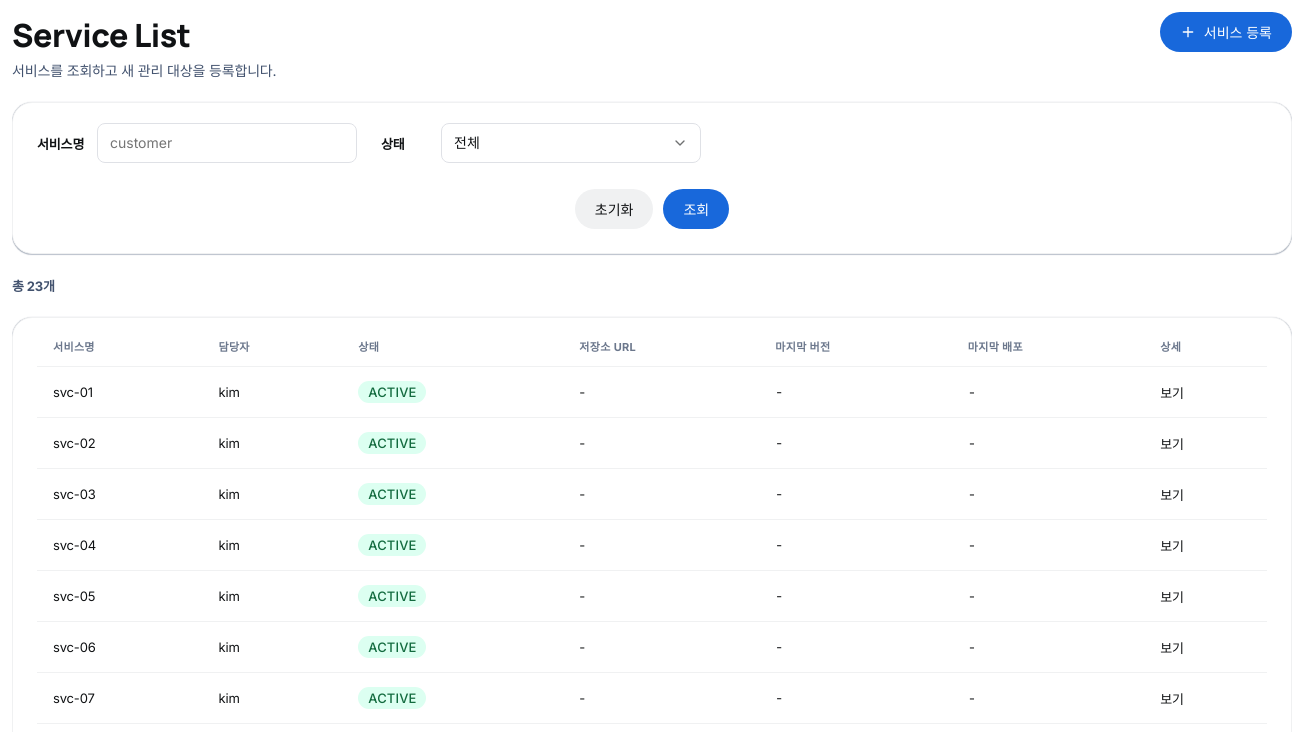
Scenario: ServiceList client pagination + reset › clears the keyword filter input when 초기화 is clicked
The image size is (1304, 732).
In the field with placeholder "customer": (227,143) left=97, top=123, right=357, bottom=163, type "payments"
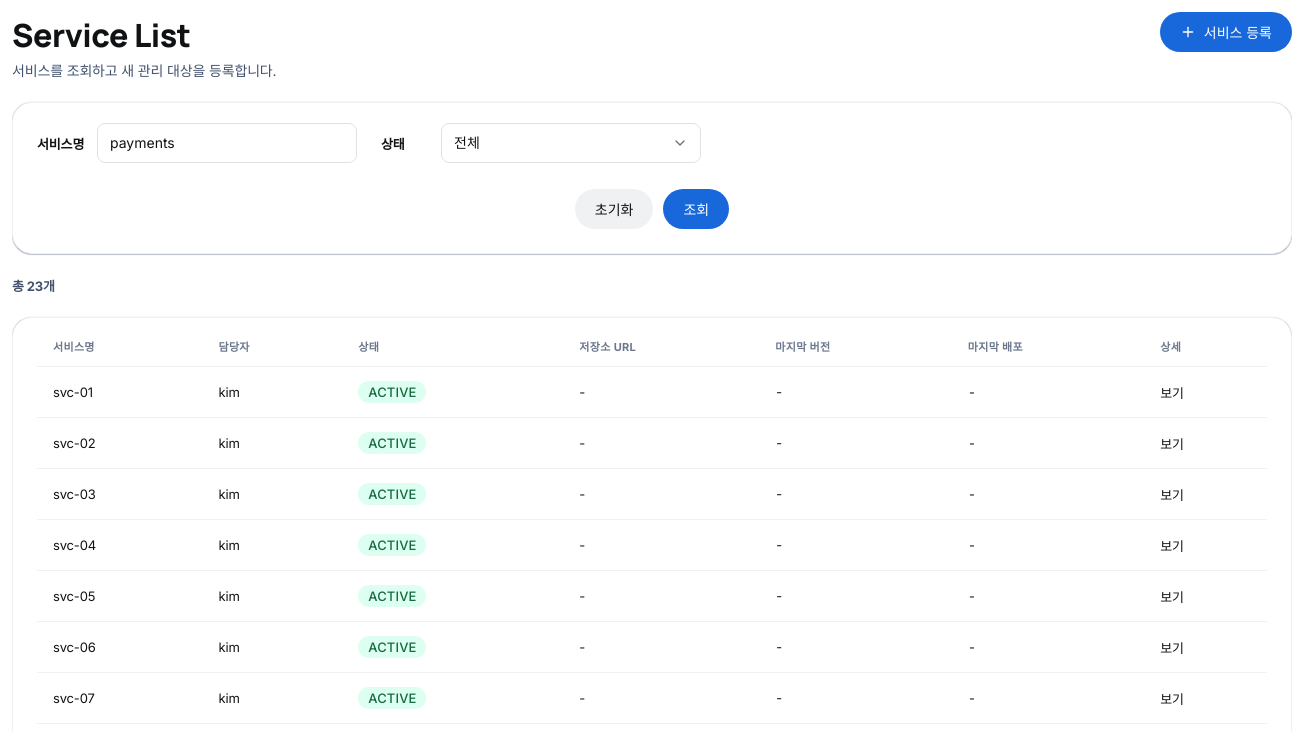
Click the button "초기화": (614,209) left=575, top=189, right=653, bottom=229
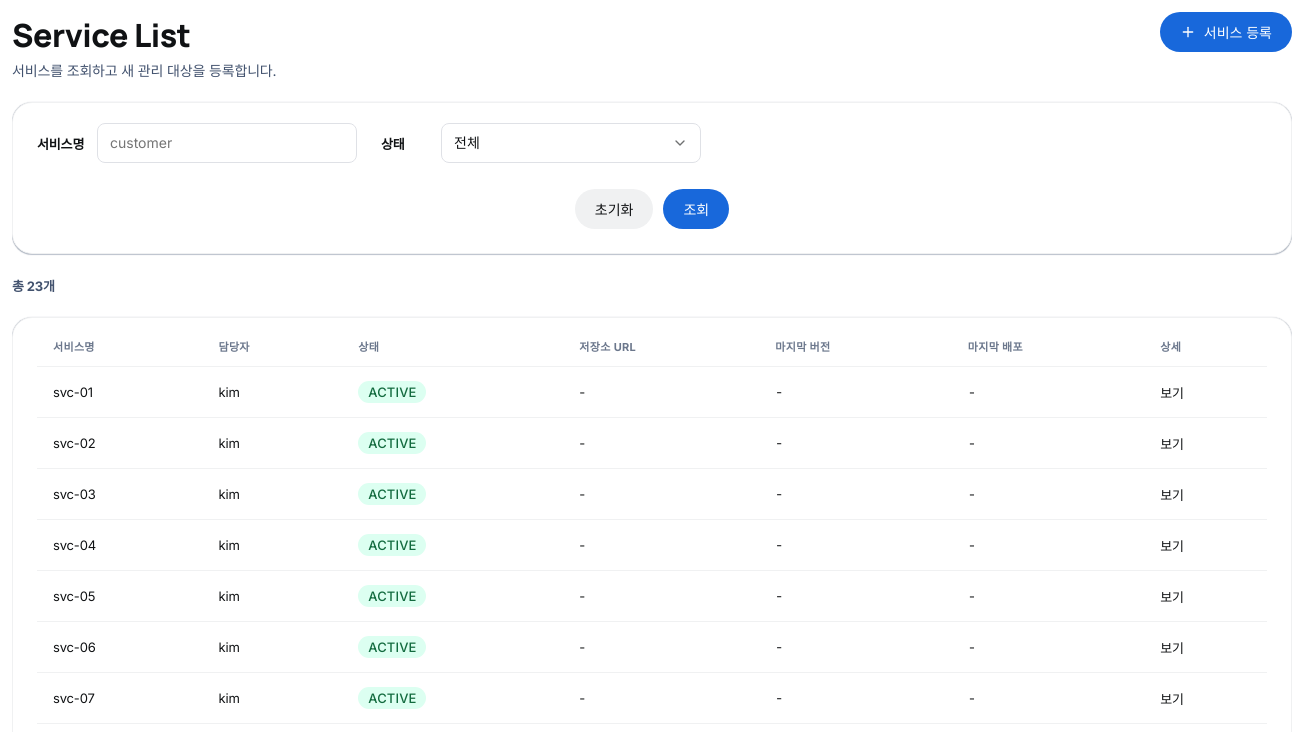
Check: the field with placeholder "customer" is empty, box left=97, top=123, right=357, bottom=163
